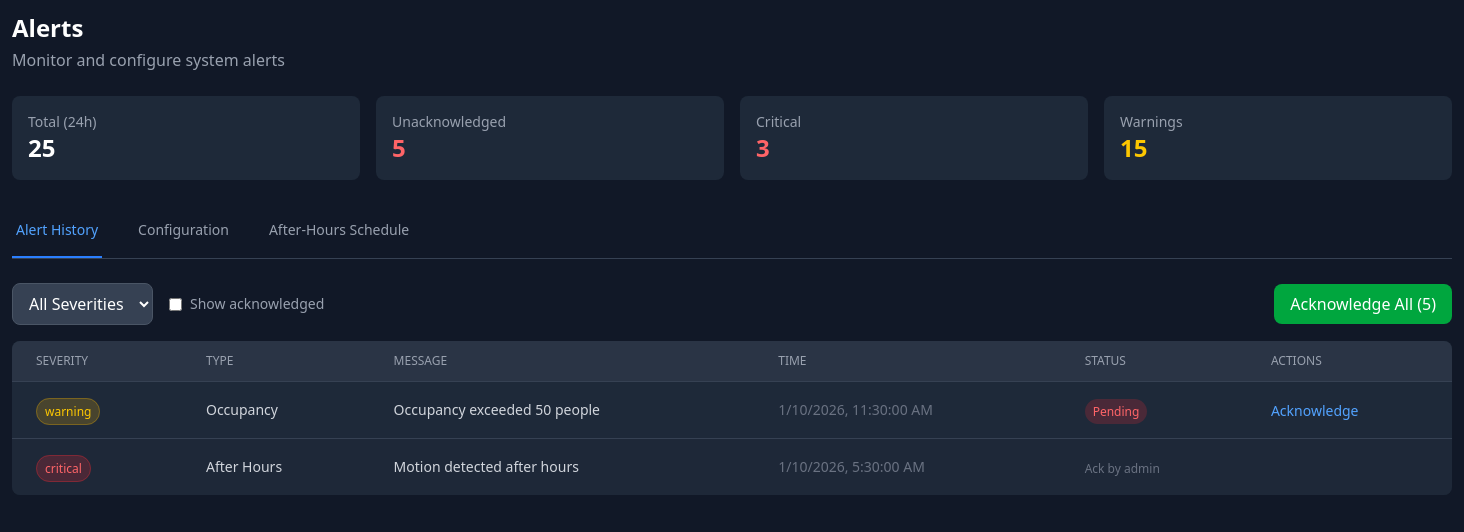
Alerts Page › switches to Configuration tab
Click the button "Configuration": (184, 231) [134,204,233,258]
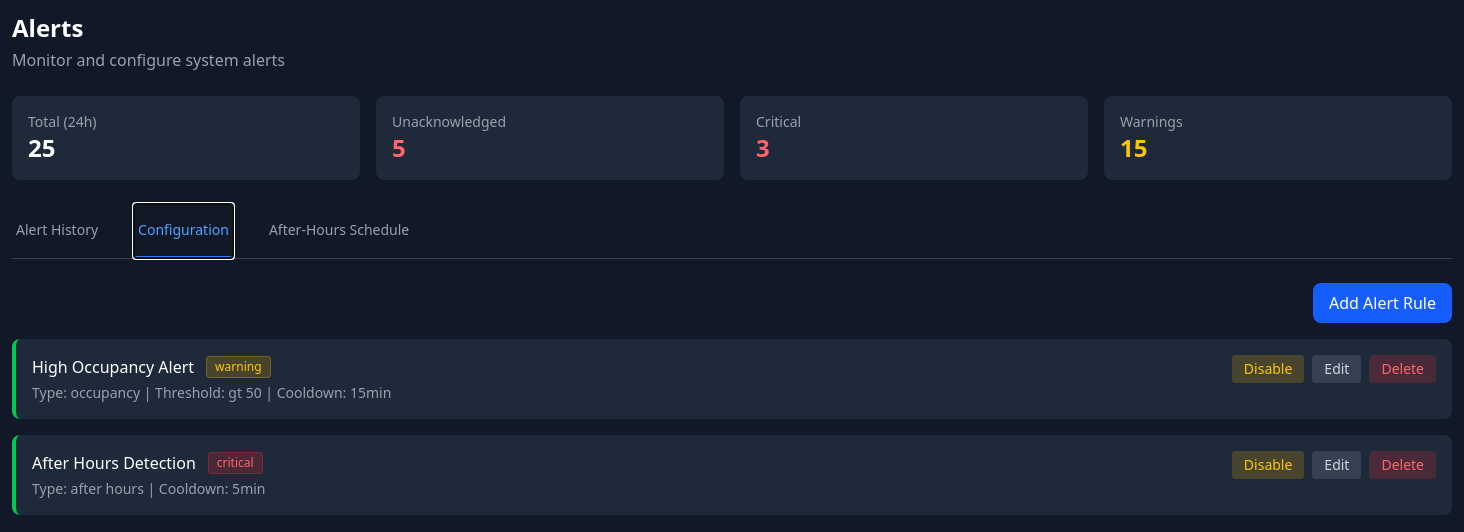
Expected: the heading "High Occupancy Alert" is shown, [32,355,194,379]
